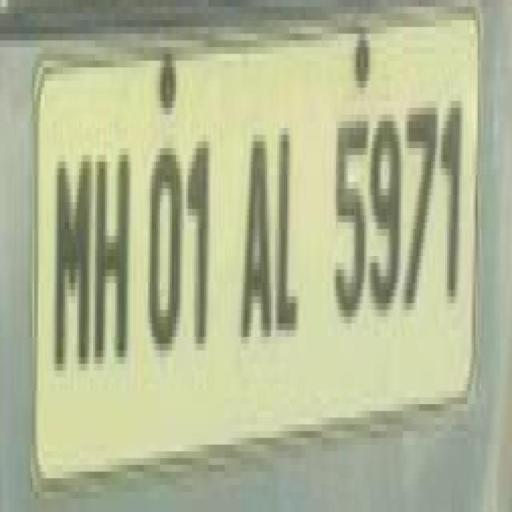number plate: (18, 0, 467, 471)
